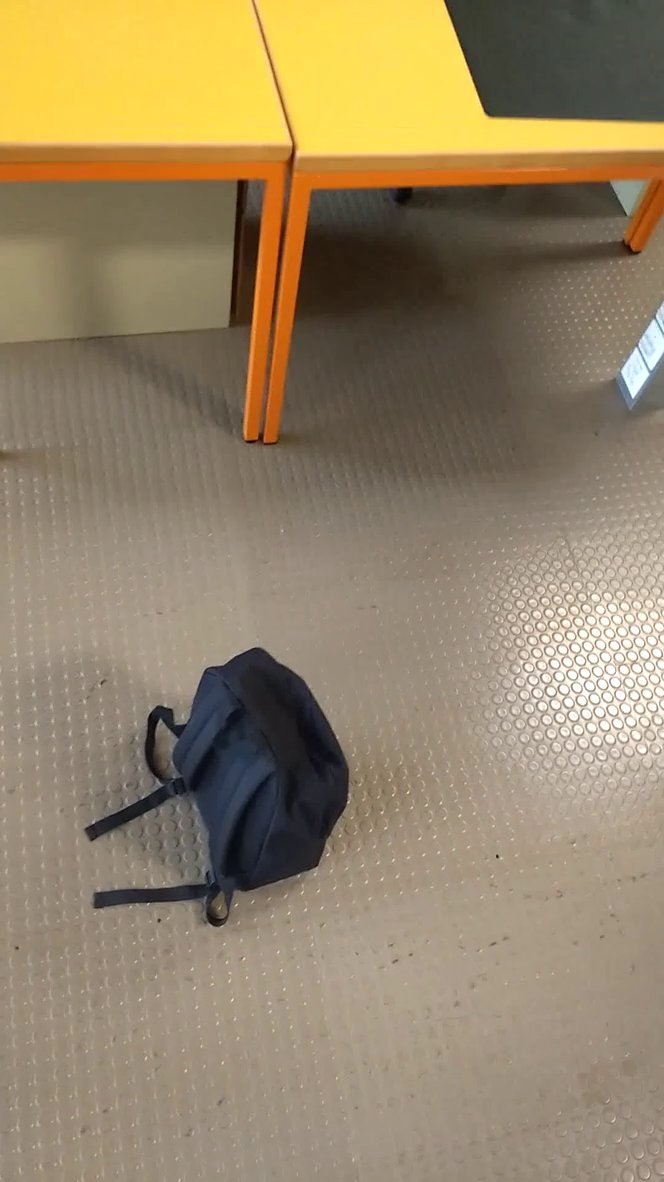bag: (78, 633, 370, 937)
